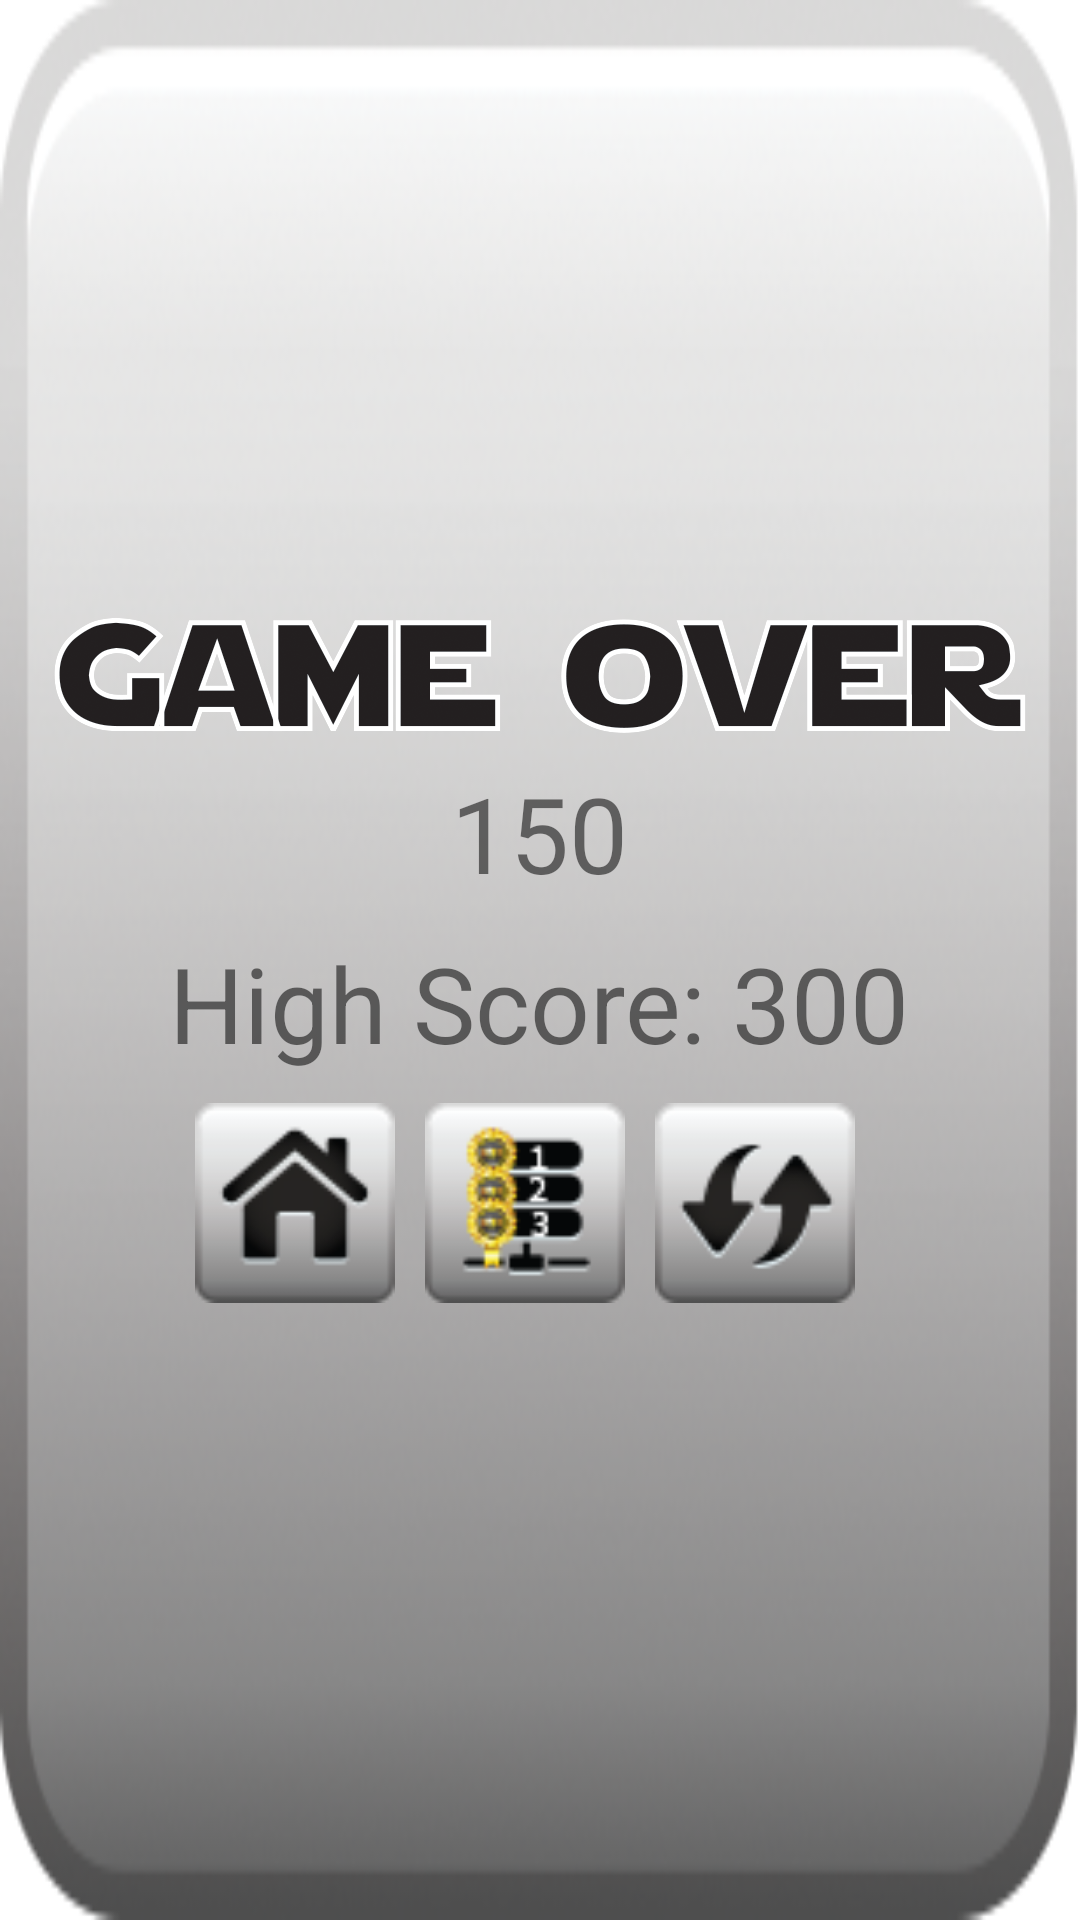

Locate icon controls on the screen. Image size 1080 × 1920, boxes as (left=x1, top=y1, right=x2, bottom=y2).
homebtn: (left=195, top=1103, right=395, bottom=1303)
retrybtn: (left=655, top=1103, right=855, bottom=1303)
scorebtn: (left=425, top=1103, right=625, bottom=1303)
